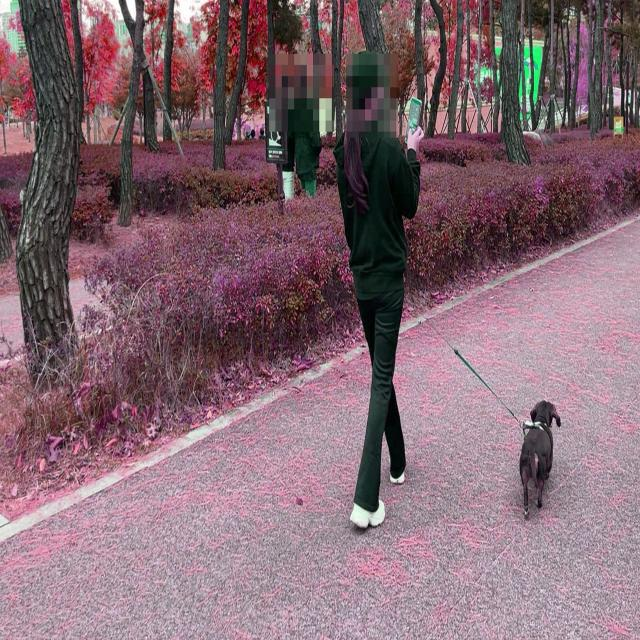Leashed_Dog: (379, 280, 561, 519)
